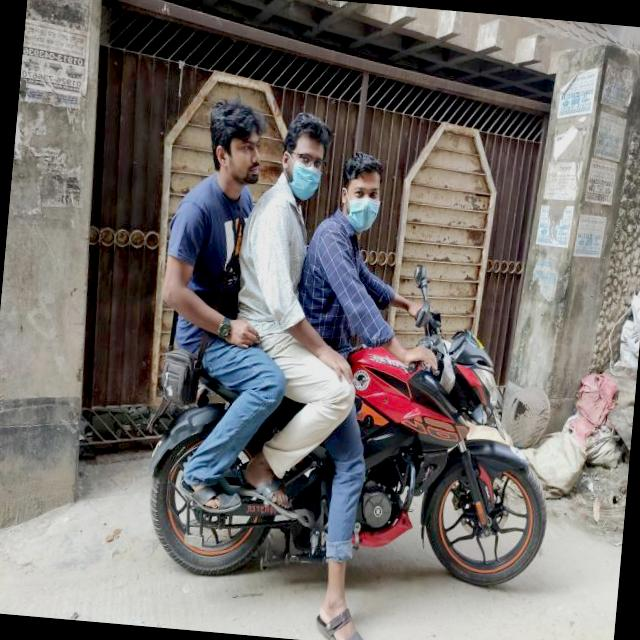motorcycle: (128, 282, 568, 616)
person: (143, 92, 274, 416), (272, 140, 398, 464), (215, 106, 338, 427)
rider_region: (134, 100, 593, 604)
